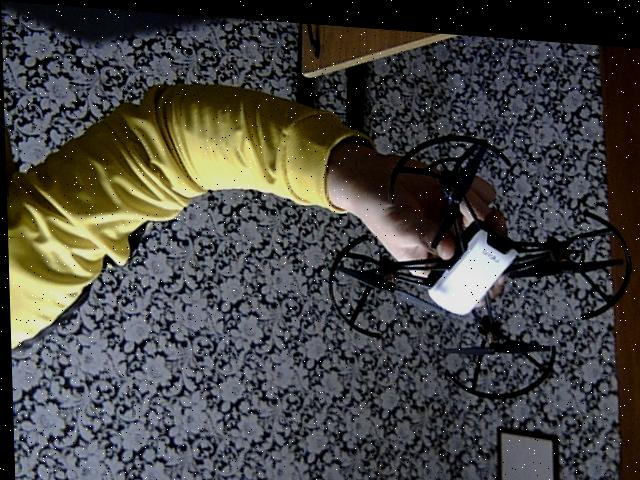drone: (321, 115, 636, 404)
